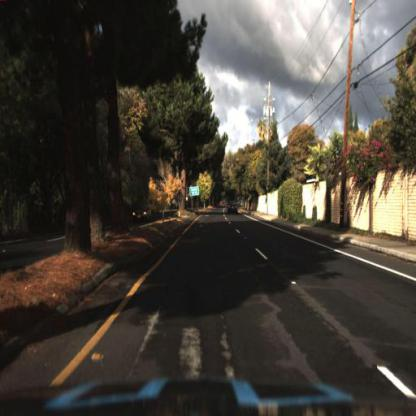car: (133, 204, 153, 225), (229, 201, 239, 216)
